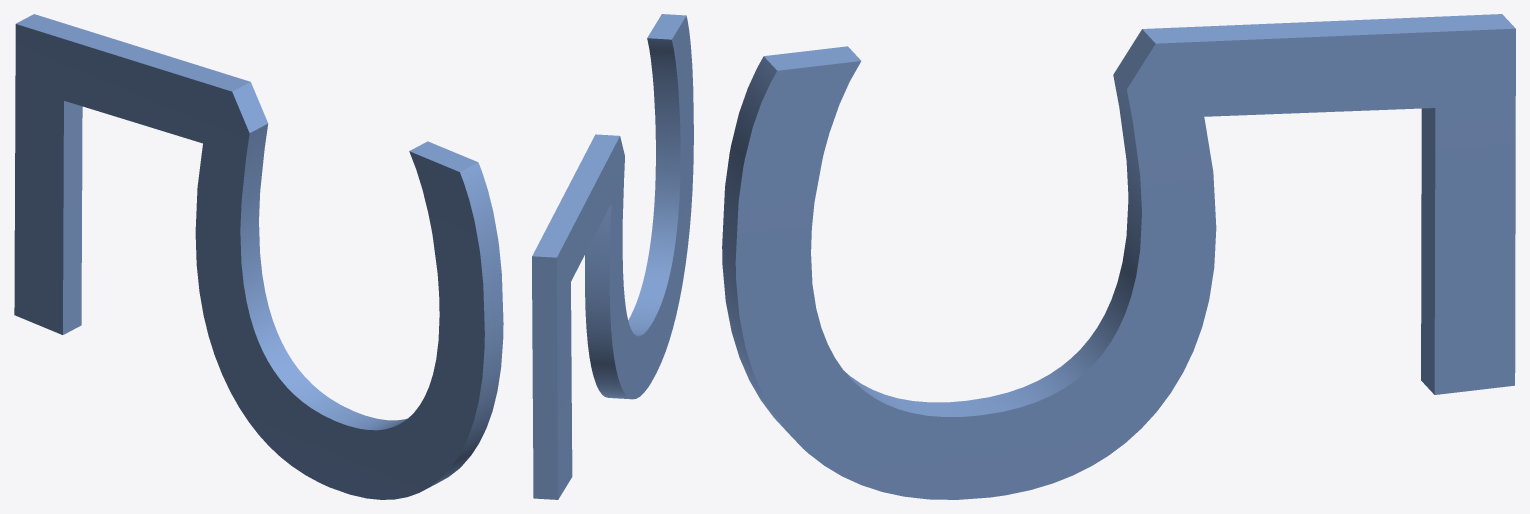
File: New_Number_5.gltf
3 renders of one model, left to right at view 1: azimuth 30°, elevation 25°; view 2: azimuth 150°, elevation 25°; view 3: azimuth 270°, elevation 25°, orthographic. The views are drawn at different scales.
Visible parts, largest first — view 1: Part 590; view 2: Part 590; view 3: Part 590.
Part boxes in pixels (left/top/right/bottom): Part 590: left=14, top=14, right=503, bottom=499; Part 590: left=532, top=14, right=693, bottom=499; Part 590: left=722, top=14, right=1515, bottom=499.
Size of the model in its own units: 0.00175 by 0.00346 by 0.00549.
